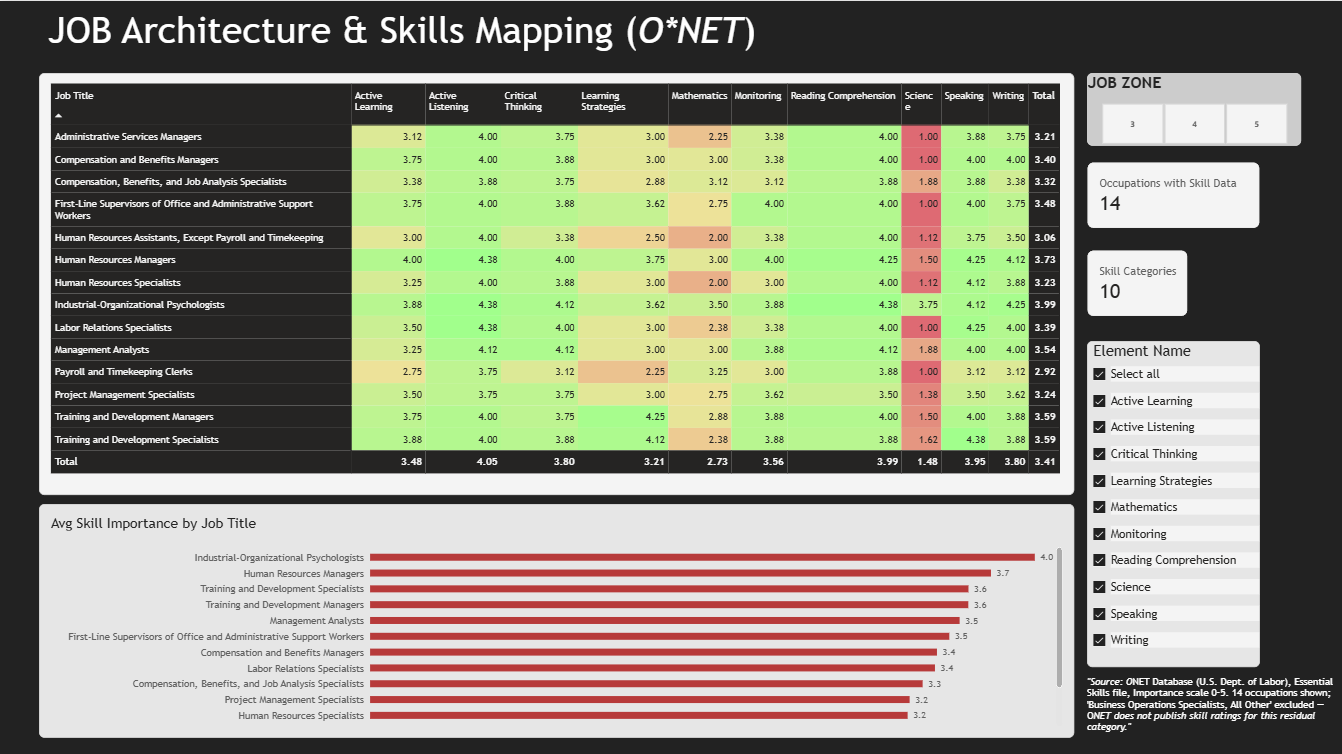

Layout of this report page (visuals, bound fields, positions):
{"tool":"powerbi","page":{"name":"Page 1","canvas":[1920,1080],"ordinal":0},"visuals":[{"type":"pivotTable","fields":{"Columns":["Skills.Element Name"],"Rows":["JobZones.Job Title"],"Values":["Skills.Avg Skill Importance"]},"box":[55.7,102.9,1478.6,602.9],"z":1000},{"type":"slicer","title":"JOB ZONE","fields":{"Values":["JobZones.Job Zone"]},"box":[1552.9,102.9,305.9,103.7],"z":2000},{"type":"slicer","fields":{"Values":["Skills.Element Name"]},"box":[1552.9,485.7,247.1,465.7],"z":3000},{"type":"clusteredBarChart","fields":{"Category":["JobZones.Job Title"],"Y":["Skills.Avg Skill Importance"]},"box":[55.7,718.6,1478.6,334.3],"z":4000},{"type":"textbox","box":[68.6,10,1028.6,75.7],"z":4001},{"type":"cardVisual","fields":{"Data":["Skills.Occupations with Skill Data"]},"box":[1552.9,230,247.1,95.7],"z":4002},{"type":"cardVisual","fields":{"Data":["Skills.Skill Categories"]},"box":[1552.9,355.7,144.3,95.7],"z":4003},{"type":"textbox","box":[1552.9,964.3,352.9,88.6],"z":4004}]}

Visuals, with their boxes in screenshot pixels (x1, y1, x2, y2), scaled from the page's 1920x1080 canvas onto the 1342x754 screenshot:
pivotTable - Skills.Element Name x JobZones.Job Title: (39, 72, 1072, 493)
"JOB ZONE" slicer: (1085, 72, 1299, 144)
slicer - Skills.Element Name: (1085, 339, 1258, 664)
clusteredBarChart - JobZones.Job Title x Skills.Avg Skill Importance: (39, 502, 1072, 735)
textbox: (48, 7, 767, 60)
cardVisual - Skills.Occupations with Skill Data: (1085, 161, 1258, 227)
cardVisual - Skills.Skill Categories: (1085, 248, 1186, 315)
textbox: (1085, 673, 1332, 735)
